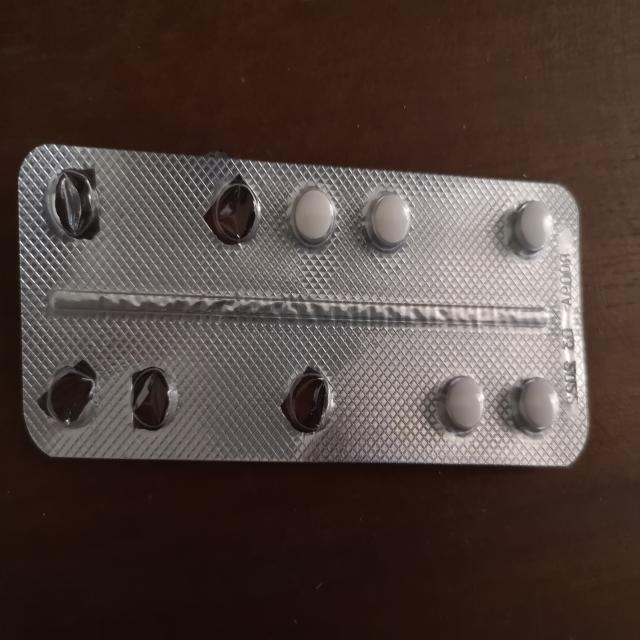Empty: (38, 162, 115, 246), (30, 354, 101, 432), (279, 355, 337, 433), (122, 361, 181, 437), (204, 178, 261, 248)
Pill: (283, 169, 344, 259), (355, 182, 416, 258), (508, 367, 565, 444), (436, 368, 491, 442), (507, 192, 558, 260)
